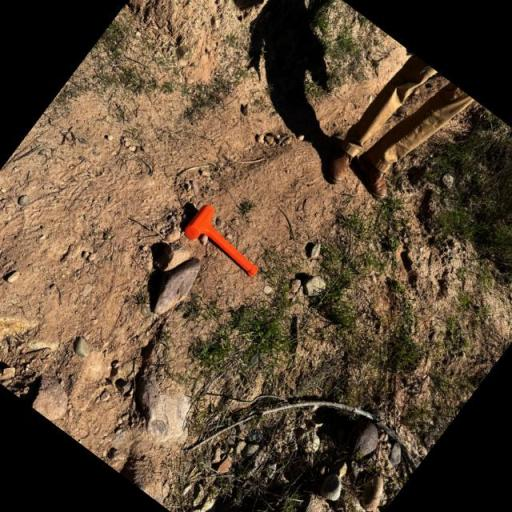mallet: (181, 202, 272, 284)
